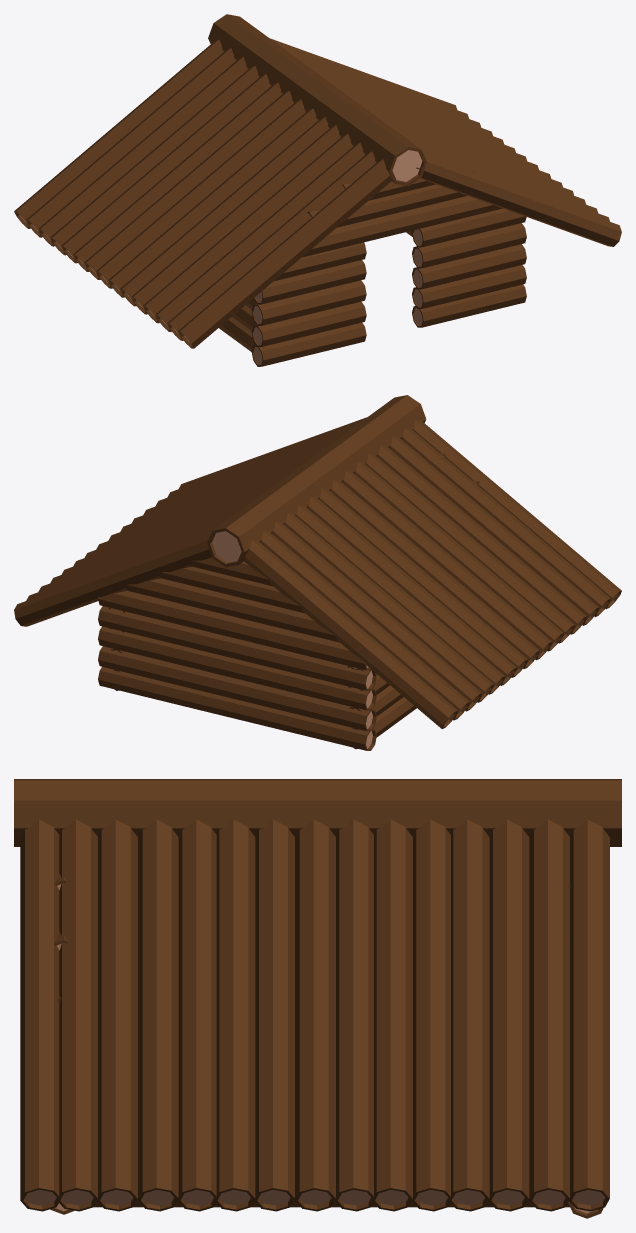
File: Cabin.fbx
3 renders of one model, top to bottom at view 1: azimuth 30°, elevation 25°; view 2: azimuth 150°, elevation 25°; view 3: azimuth 270°, elevation 25°, orthographic. The views are drawn at different scales.
Visible parts, largest first — view 1: Roof 1, Roof 2, Doorway West, Doorway East, Roof Beam, Doorway Roof, Wall East; view 2: Roof 1, Wall south, Roof 2, Roof Beam, Wall East; view 3: Roof 2, Roof Beam.
Part boxes in pixels (x1,y1,x2,y2): Roof 1: (14, 39, 391, 348); Roof 2: (270, 38, 621, 246); Doorway West: (412, 208, 526, 327); Doorway East: (251, 242, 366, 366); Roof Beam: (208, 14, 426, 186); Doorway Roof: (283, 160, 502, 257); Wall East: (219, 298, 256, 351); Roof 1: (244, 420, 621, 728); Wall south: (98, 558, 376, 750); Roof 2: (14, 417, 366, 626); Roof Beam: (207, 395, 426, 567); Wall East: (347, 666, 416, 749); Roof 2: (20, 819, 609, 1211); Roof Beam: (14, 779, 621, 846).
Size of the model in its own units: 3185 by 1371 by 2287.
